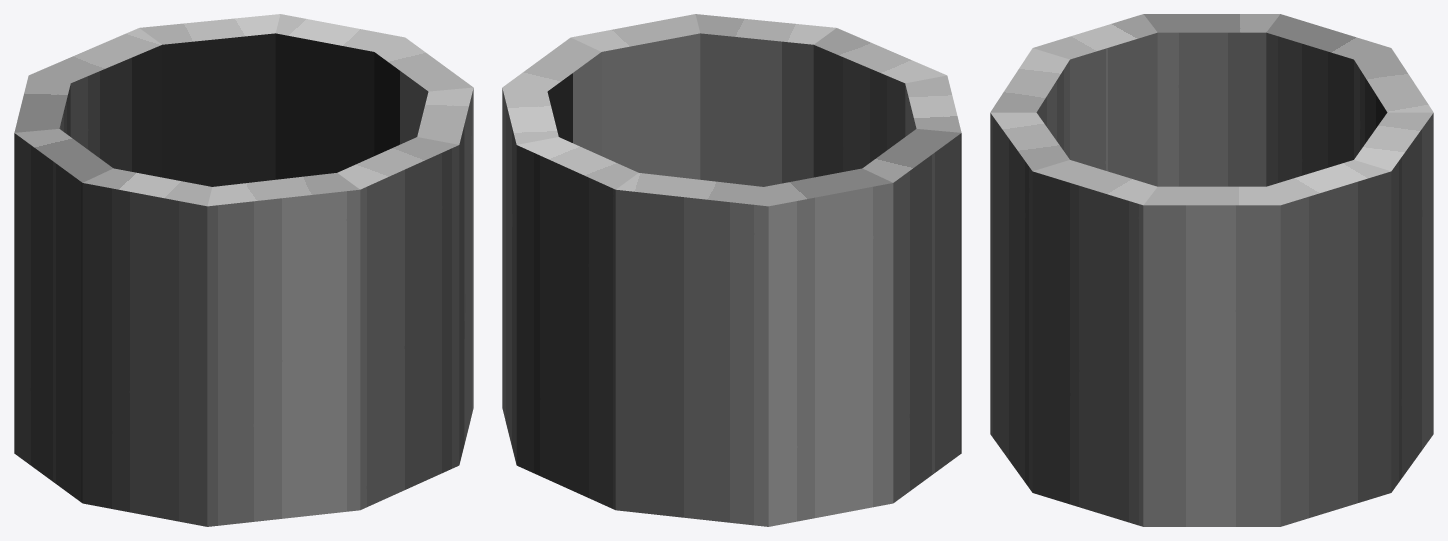
The model's file is pot_944x02.gltf.
3 views of the same model, side by side, from view 1: azimuth 30°, elevation 25°; view 2: azimuth 150°, elevation 25°; view 3: azimuth 270°, elevation 25° (orthographic).
Parts seen in each view (by area): view 1: pot_944x02; view 2: pot_944x02; view 3: pot_944x02.
Part boxes in pixels (<box>): pot_944x02: <box>14,14,473,526</box>; pot_944x02: <box>502,14,961,526</box>; pot_944x02: <box>990,14,1433,526</box>.
Bounding box in the file's own units: 1.02 × 0.8 × 1.
1 material, 1 textured.
